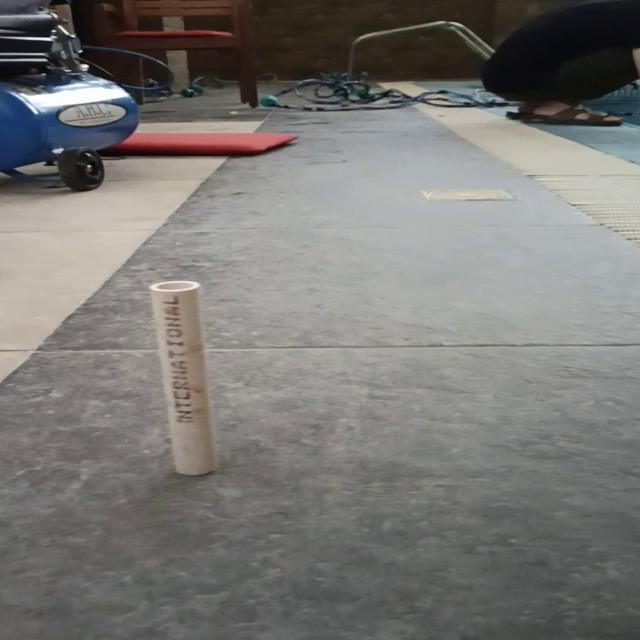Cube: (146, 279, 218, 475)
